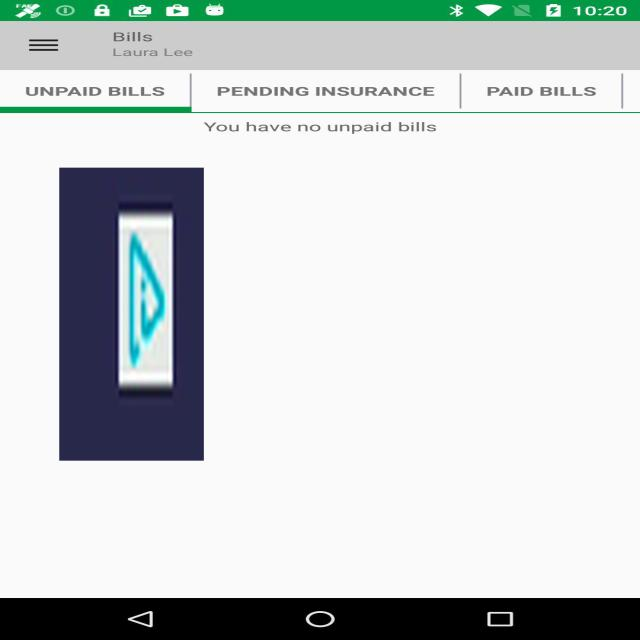sneaking: (59, 168, 204, 460)
